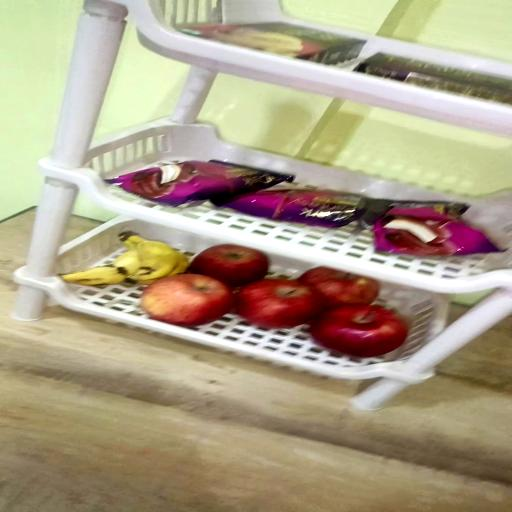Apple: (138, 275, 235, 328), (310, 306, 408, 358), (236, 278, 330, 330), (190, 246, 271, 289), (300, 268, 380, 307)
Choco Fills: (178, 22, 368, 66), (354, 52, 511, 105)
Choco Pie: (108, 158, 296, 206), (368, 202, 501, 258), (214, 190, 370, 230)
